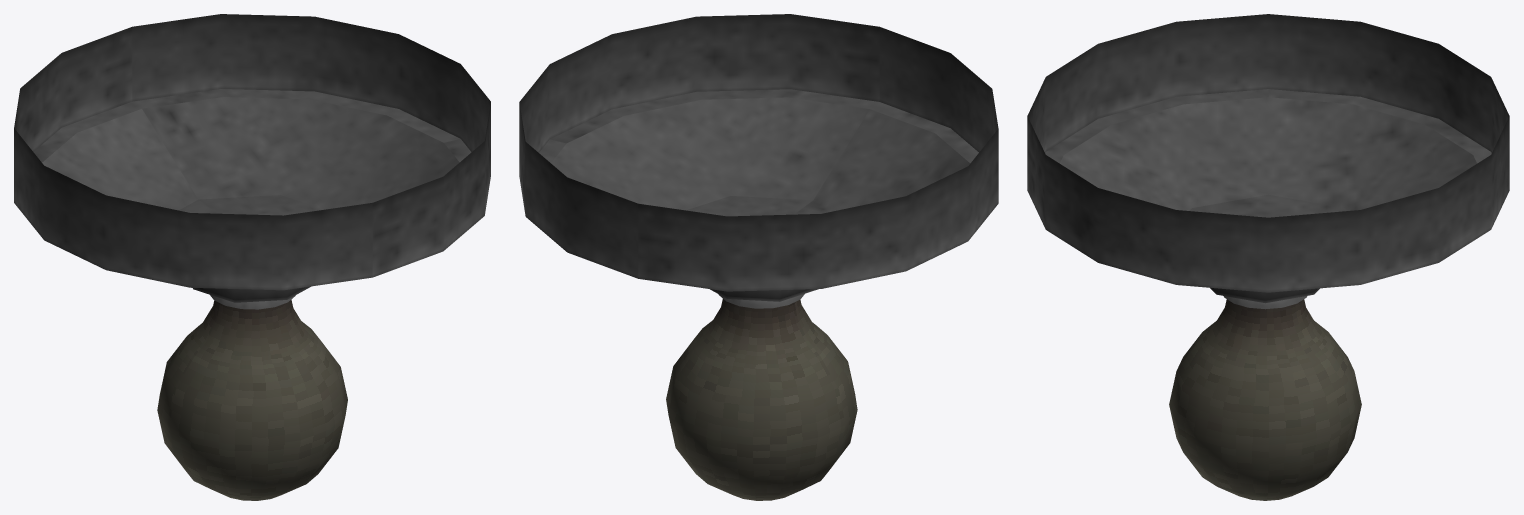
The model's file is ceiling_lamp_mp_1_off.obj.
3 renders of one model, left to right at view 1: azimuth 30°, elevation 25°; view 2: azimuth 150°, elevation 25°; view 3: azimuth 270°, elevation 25°, orthographic.
Visible parts, largest first — view 1: ceiling_lamp_mp_1_off; view 2: ceiling_lamp_mp_1_off; view 3: ceiling_lamp_mp_1_off.
Part boxes in pixels (x1,y1,x2,y2): ceiling_lamp_mp_1_off: [14, 14, 490, 500]; ceiling_lamp_mp_1_off: [519, 14, 998, 500]; ceiling_lamp_mp_1_off: [1027, 14, 1509, 500].
Bounding box in the file's own units: 0.215 × 0.1855 × 0.215.
